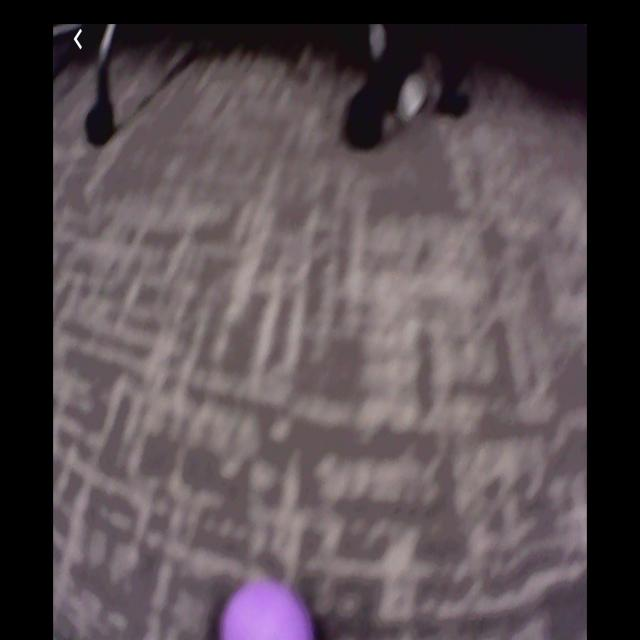ball: (220, 584, 315, 640)
